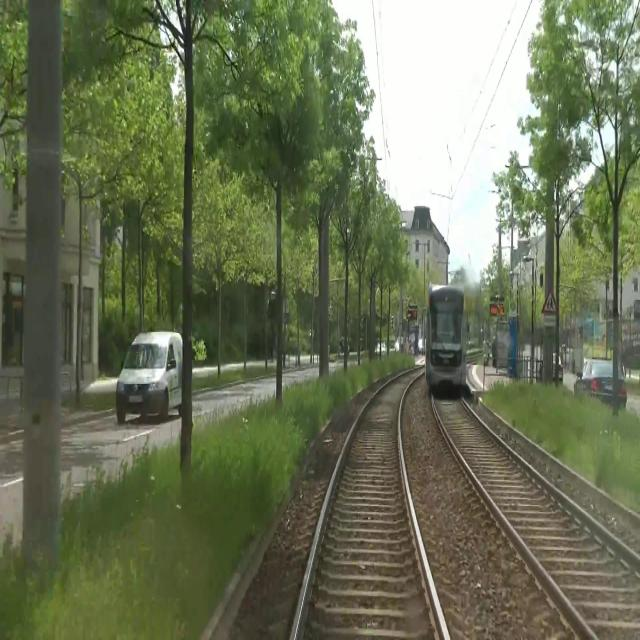rail-track: (434, 396, 640, 639), (295, 369, 444, 639)
